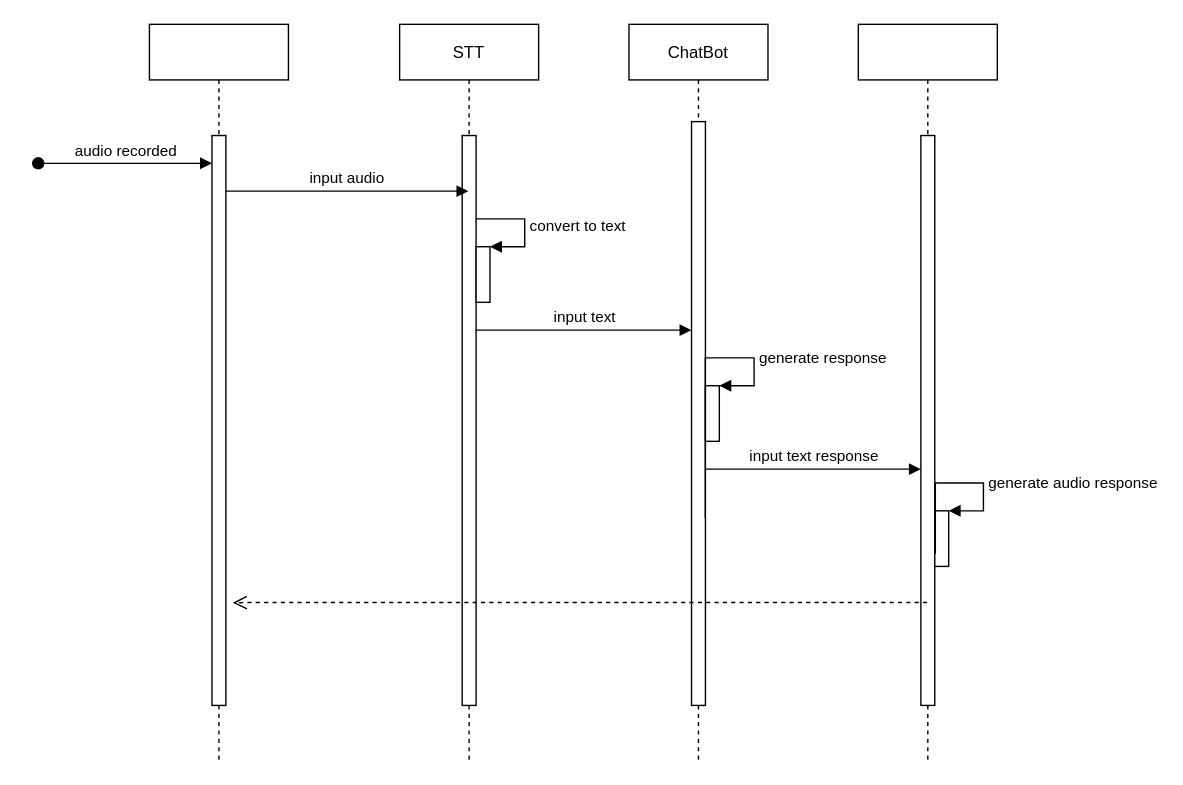
This 1183x785 diagram has some shape labels left out. Each missing label, with the box of its shape:
TTS: (857, 23, 997, 761)
UI: (148, 23, 288, 761)
